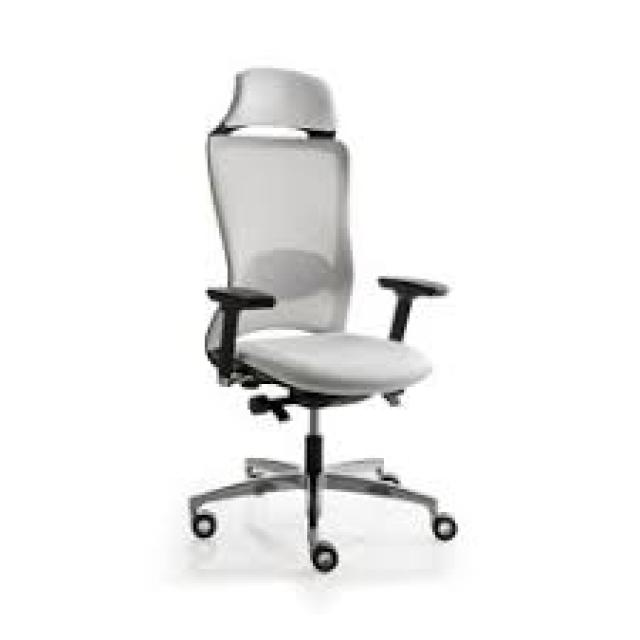chair: (110, 44, 517, 615)
